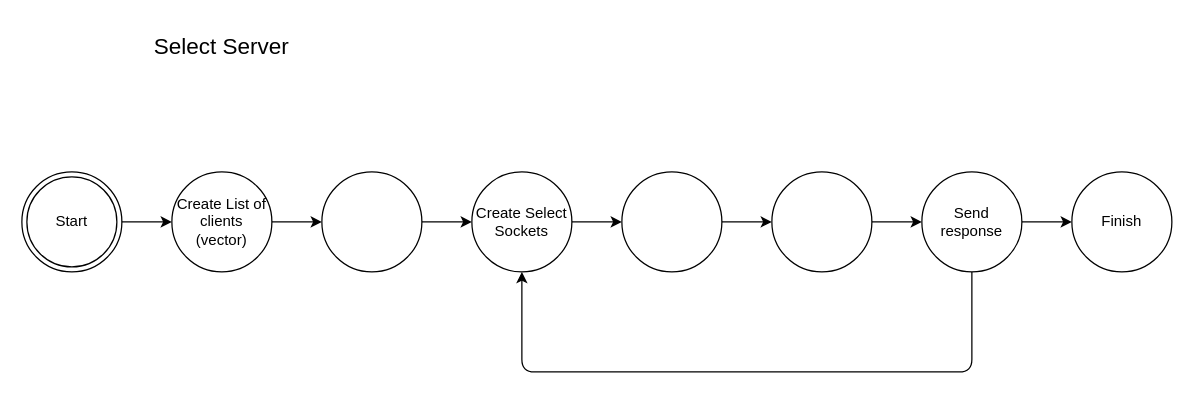
Image size: 1194x404. Some labels were removed from this diagram. Each missing label, with the box of its shape:
Receive Data: (771, 171, 872, 272)
Set to nonblocking: (321, 171, 422, 272)
Wait for connection: (621, 171, 722, 272)
